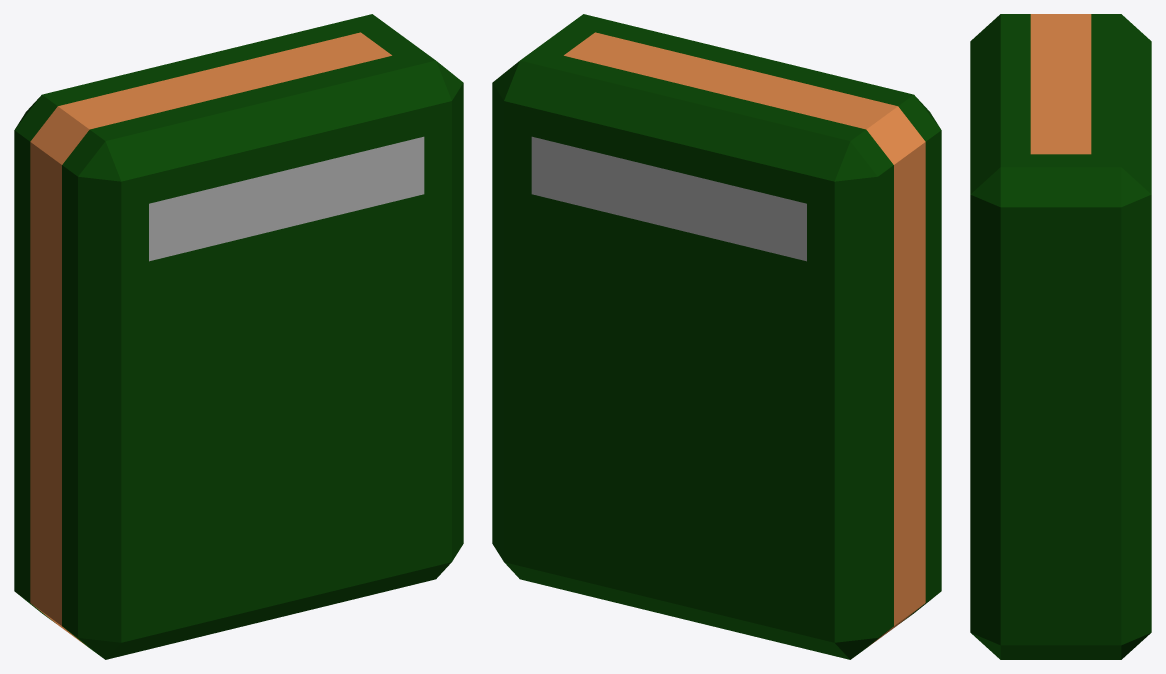
File: Book5.fbx
3 renders of one model, left to right at view 1: azimuth 30°, elevation 25°; view 2: azimuth 150°, elevation 25°; view 3: azimuth 270°, elevation 25°, orthographic. The views are drawn at different scales.
Parts seen in each view (by area): view 1: Book5; view 2: Book5; view 3: Book5.
Part boxes in pixels (box(x1,y1,x2,y2)): Book5: box(14, 14, 463, 659); Book5: box(492, 14, 941, 659); Book5: box(970, 14, 1151, 659).
Bounding box in the file's own units: 70 × 90 × 30.
